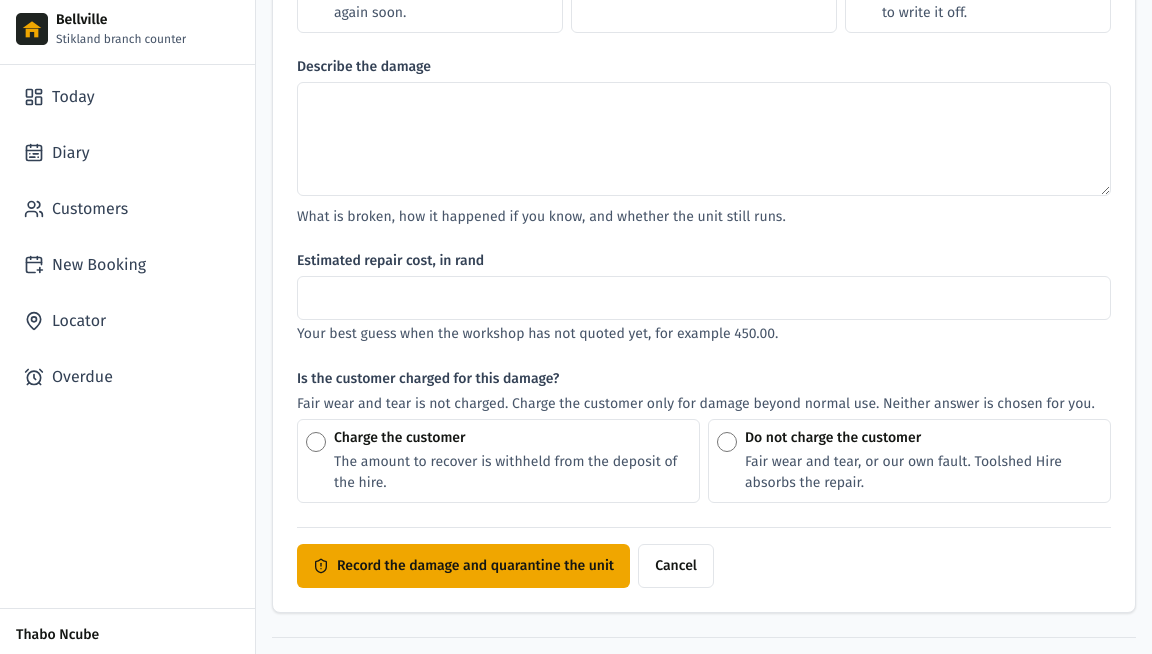
Test: the form › holds back every missing answer, each under its own field
(page scrolled)
Click the button "Record the damage and quarantine the unit": (464, 566) top-left (297, 544), bottom-right (630, 588)
(page scrolled)
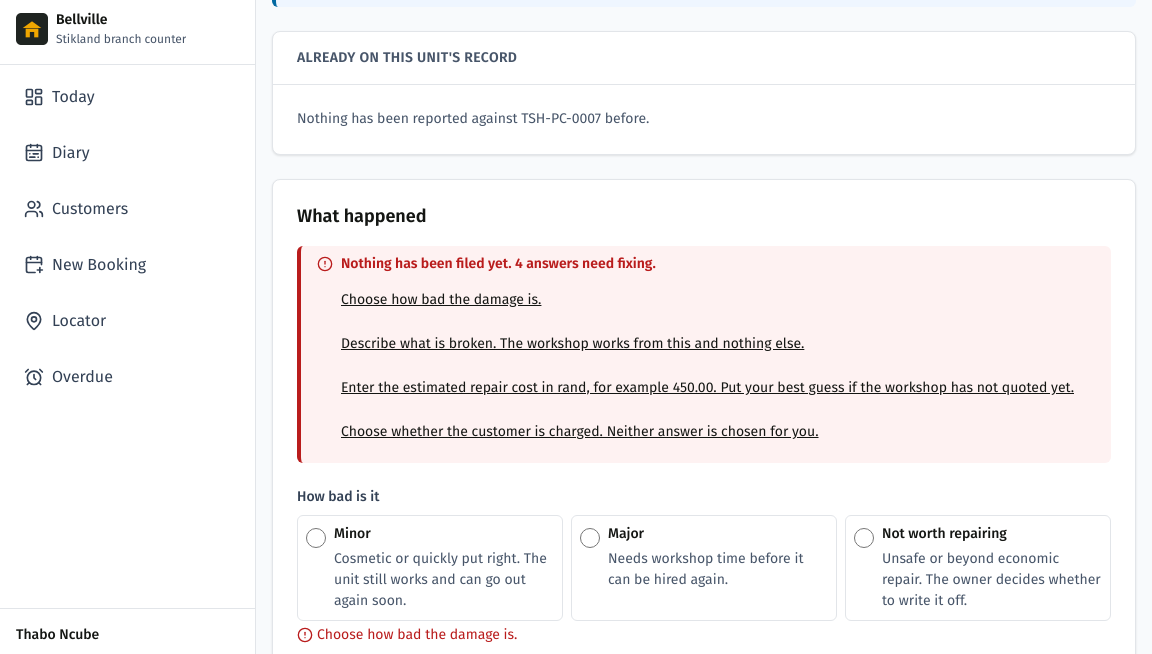
Expected: the 2nd message shows "4 answers need fixing.", top-left (341, 255), bottom-right (656, 272)
